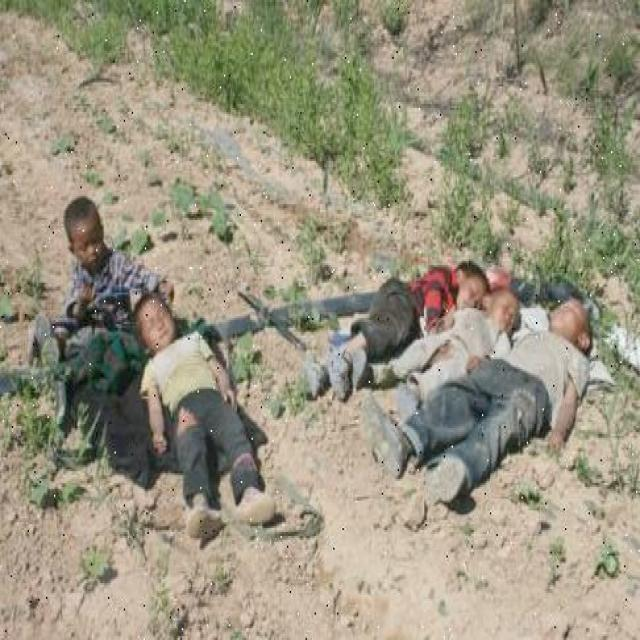fall: (326, 257, 590, 479), (137, 287, 280, 524)
